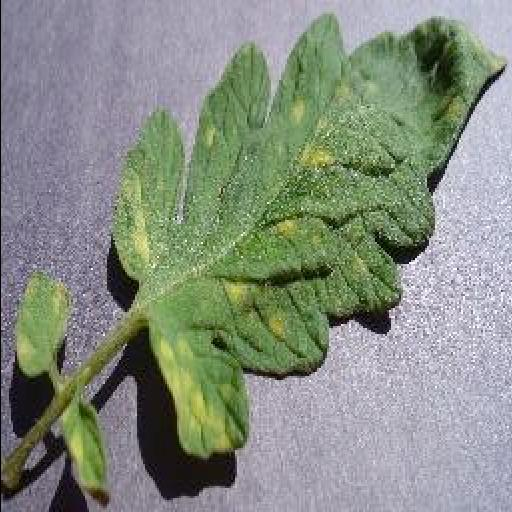disease_tomato: (111, 12, 509, 458)
